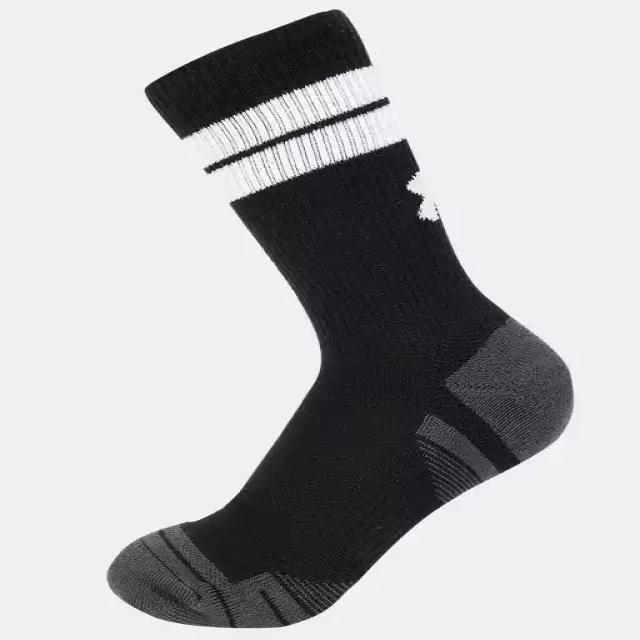sock: (105, 8, 575, 628)
